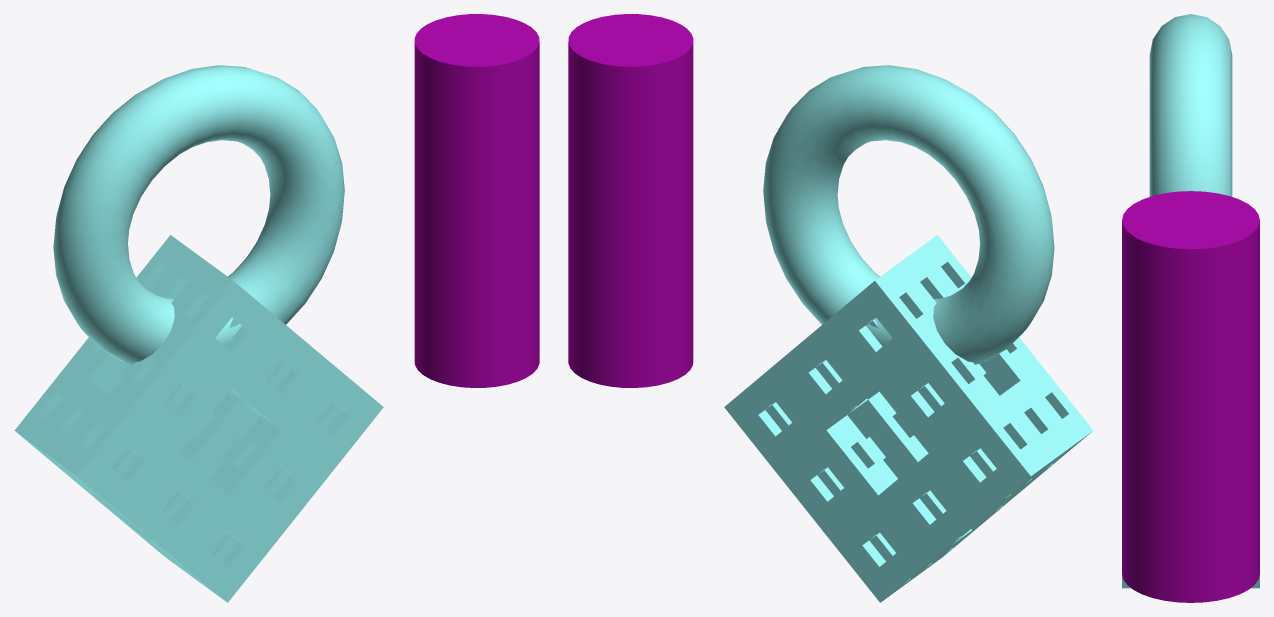
3 renders of one model, left to right at view 1: azimuth 30°, elevation 25°; view 2: azimuth 150°, elevation 25°; view 3: azimuth 270°, elevation 25°, orthographic. The views are drawn at different scales.
Visible parts, largest first — view 1: フラクタル, 円柱, トーラス; view 2: フラクタル, 円柱, トーラス; view 3: 円柱, トーラス.
Part boxes in pixels (x1=…): フラクタル: x1=14, y1=235, x2=383, y2=602; 円柱: x1=414, y1=14, x2=539, y2=387; トーラス: x1=53, y1=65, x2=344, y2=364; フラクタル: x1=724, y1=235, x2=1093, y2=602; 円柱: x1=568, y1=14, x2=693, y2=387; トーラス: x1=763, y1=65, x2=1054, y2=364; 円柱: x1=1122, y1=191, x2=1259, y2=602; トーラス: x1=1149, y1=14, x2=1232, y2=196.
Size of the model in its own units: 4.48 by 4.47 by 1.
